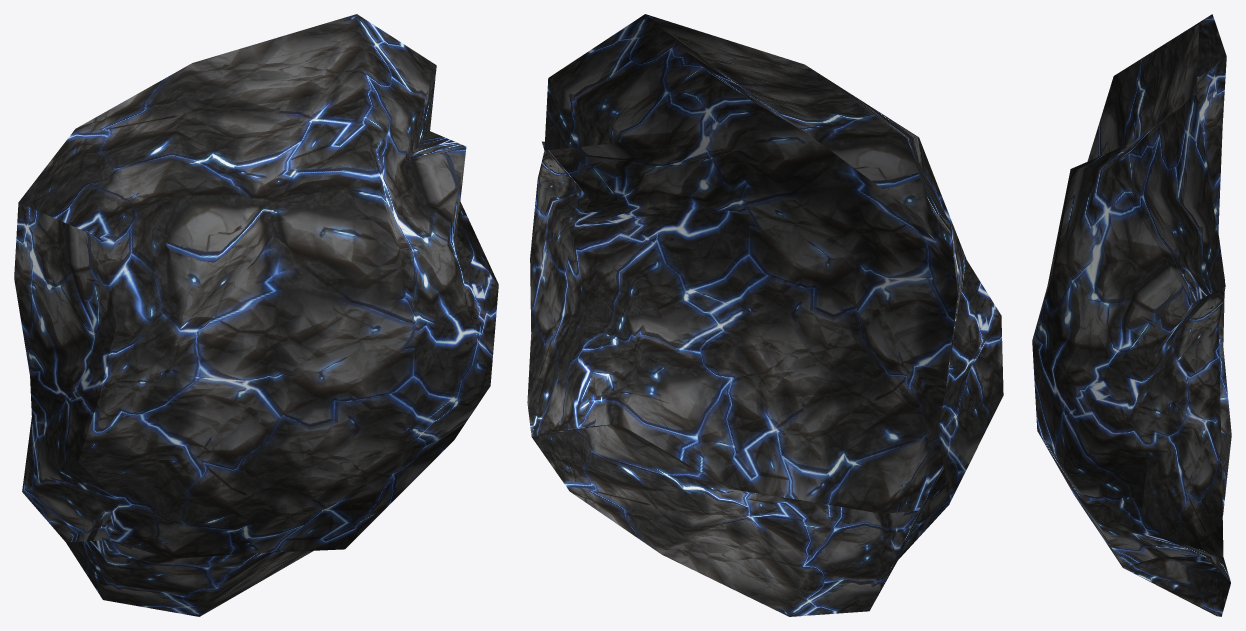
Rendered from boulder_2.FBX.
The picture shows the model from 3 angles, left to right: view 1: azimuth 30°, elevation 25°; view 2: azimuth 150°, elevation 25°; view 3: azimuth 270°, elevation 25°; orthographic projection.
Visible parts, largest first — view 1: Box001; view 2: Box001; view 3: Box001.
Part boxes in pixels (x1,y1,x2,y2): Box001: (14, 14, 498, 616); Box001: (527, 14, 1003, 616); Box001: (1032, 14, 1231, 616).
Bounding box in the file's own units: 694 × 273 × 863.
